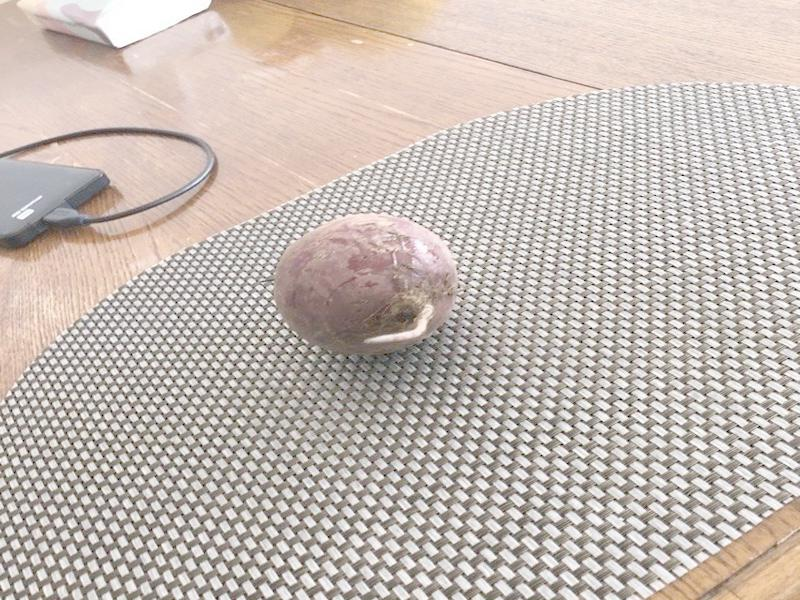Beet: (273, 214, 456, 353)
